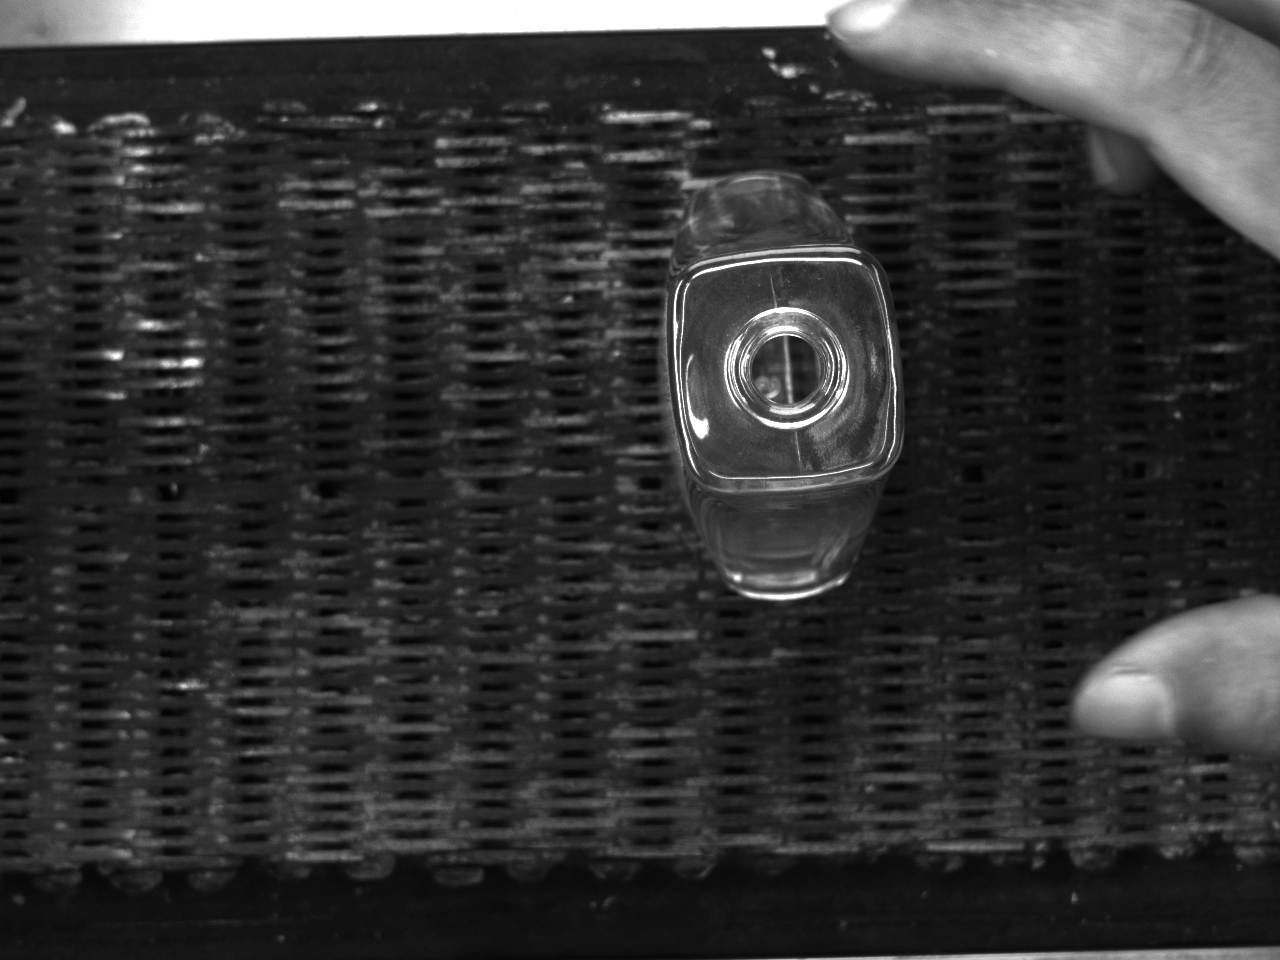bottleneck: (726, 306, 850, 428)
